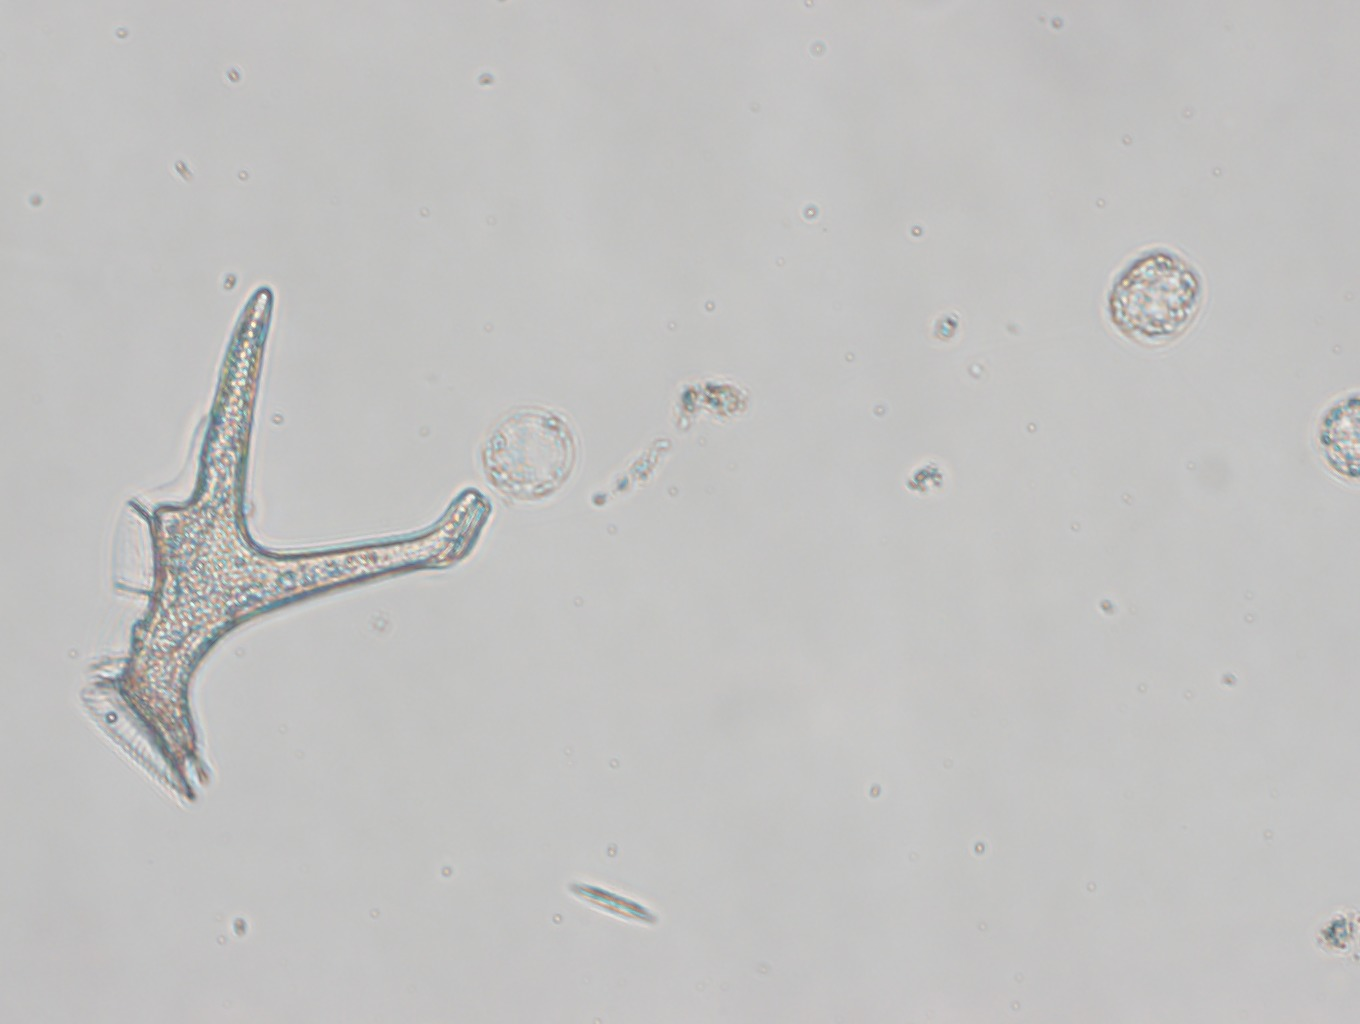dinophysis caudata: (74, 265, 493, 807)
